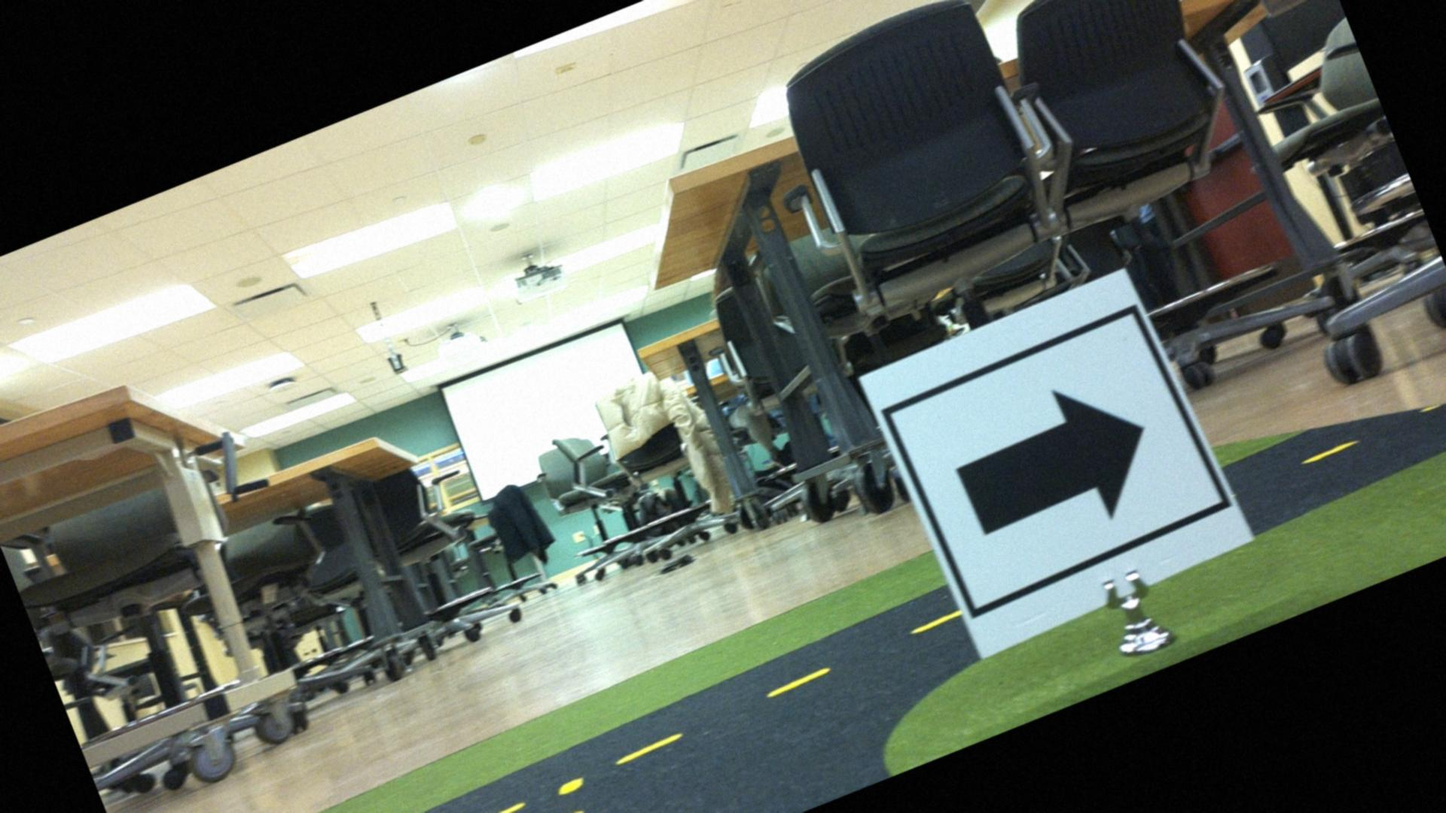turnleft: (870, 275, 1232, 653)
yellowline: (153, 611, 966, 812), (524, 808, 607, 812)
